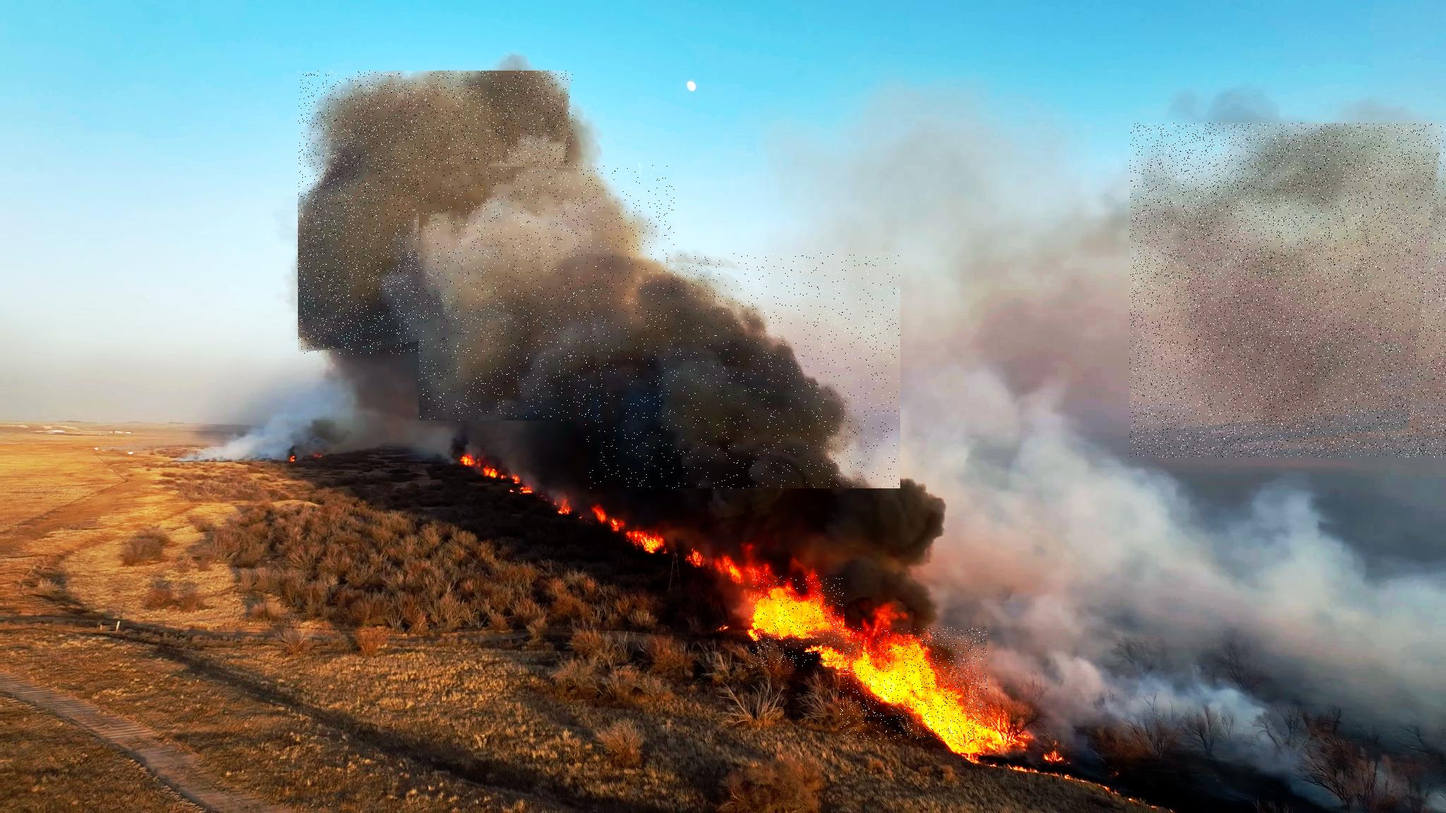fire: (840, 627, 987, 740), (751, 575, 844, 668)
smoke: (1130, 123, 1446, 457), (298, 71, 573, 354), (585, 253, 900, 488), (419, 164, 674, 421)
